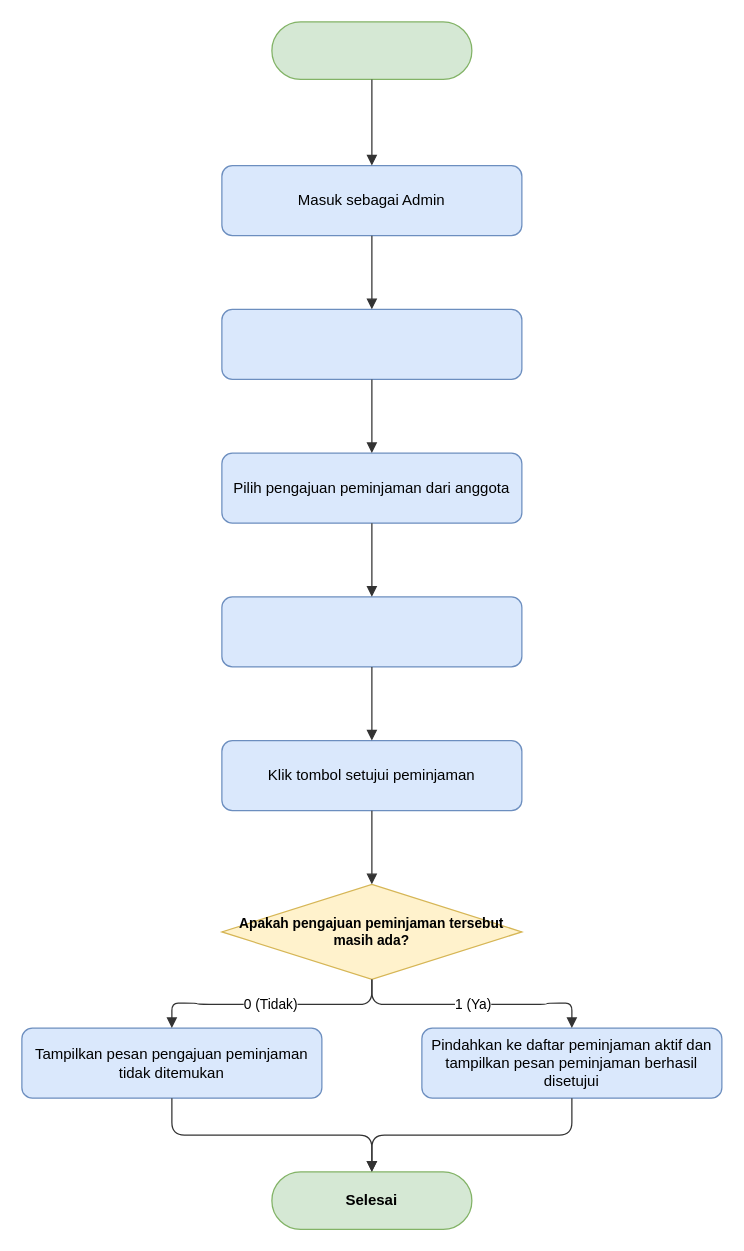
Image size: 744x1251. Some labels were removed from this diagram. The shapes that lost their labels are listed below. From the top down, each one's centre as x and y in pixels, then its label:
the point at 371,50: Mulai
the point at 371,343: Buka menu daftar pengajuan peminjaman
the point at 371,631: Tentukan tanggal batas pengembalian buku
